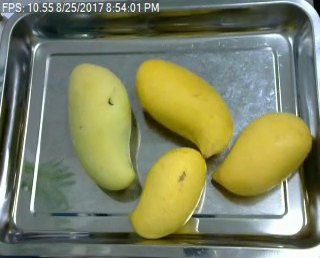Mango: (135, 57, 234, 161), (209, 112, 315, 197), (68, 62, 136, 193), (129, 148, 208, 240)
